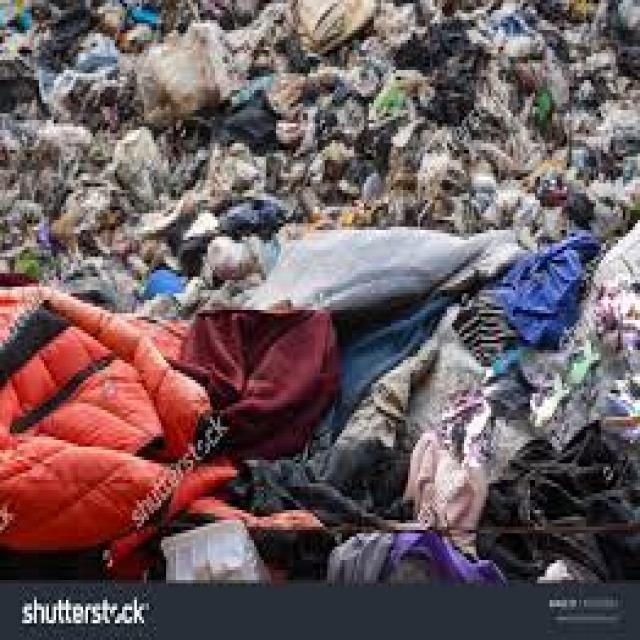Clothes -Biodegradable-: (0, 0, 640, 586)
Plastic -Non-Biodegradable but Recyclable-: (163, 518, 274, 583)
